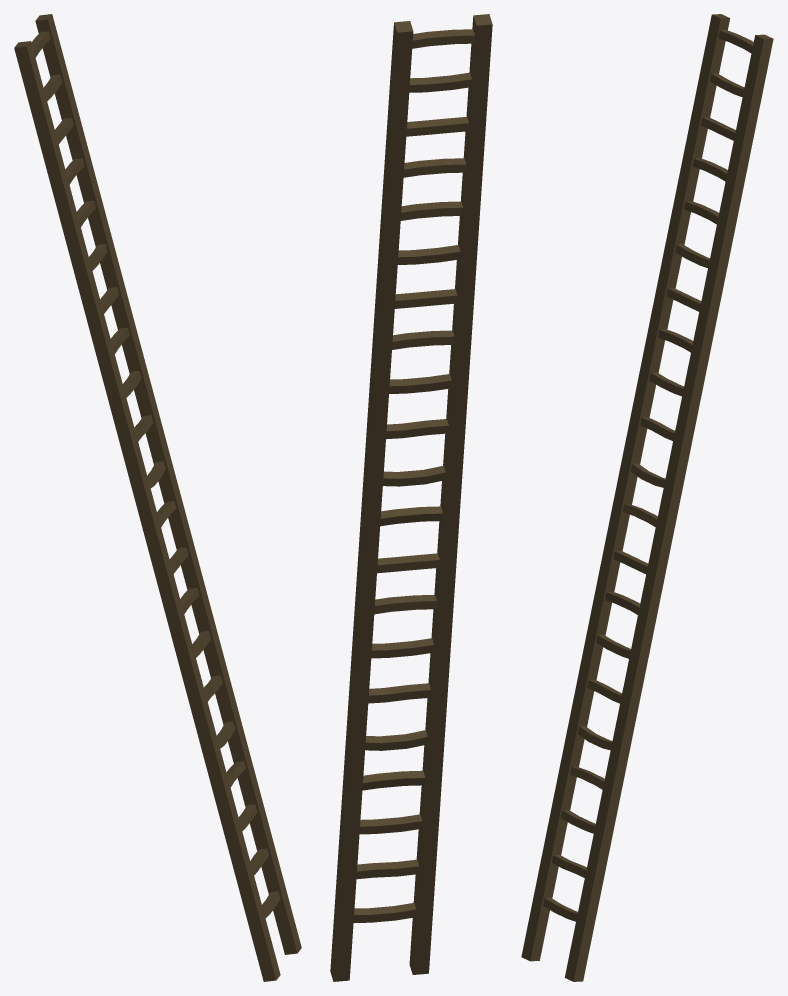
File: Ladder_01.fbx
The picture shows the model from 3 angles, left to right: view 1: azimuth 30°, elevation 25°; view 2: azimuth 150°, elevation 25°; view 3: azimuth 270°, elevation 25°; orthographic projection. The views are drawn at different scales.
Parts seen in each view (by area): view 1: Cube.008; view 2: Cube.008; view 3: Cube.008.
Part boxes in pixels (x1,y1,x2,y2): Cube.008: (14,14,301,981); Cube.008: (330,14,492,981); Cube.008: (521,14,773,981).
Bounding box in the file's own units: 291 × 1185 × 310.
